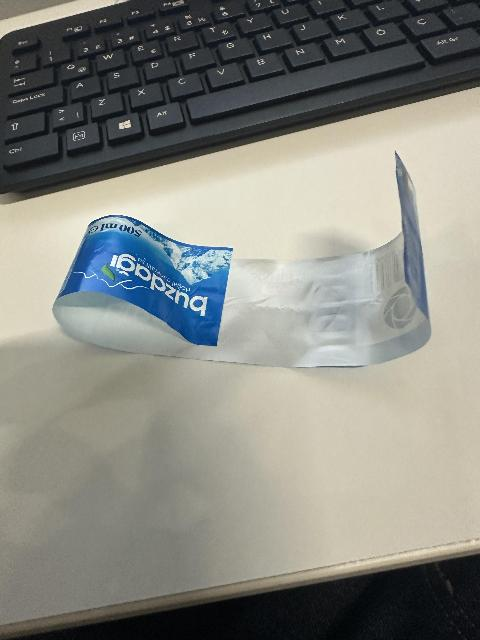Plastik: (67, 189, 463, 362)
